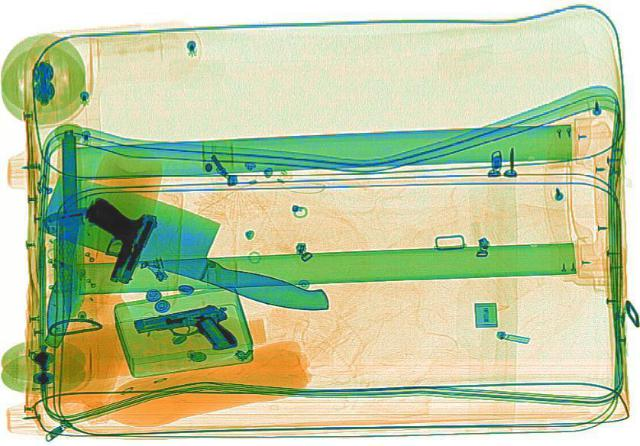Gun: (56, 194, 162, 282), (128, 298, 244, 361)
Knife: (25, 171, 361, 319), (52, 128, 82, 328)
